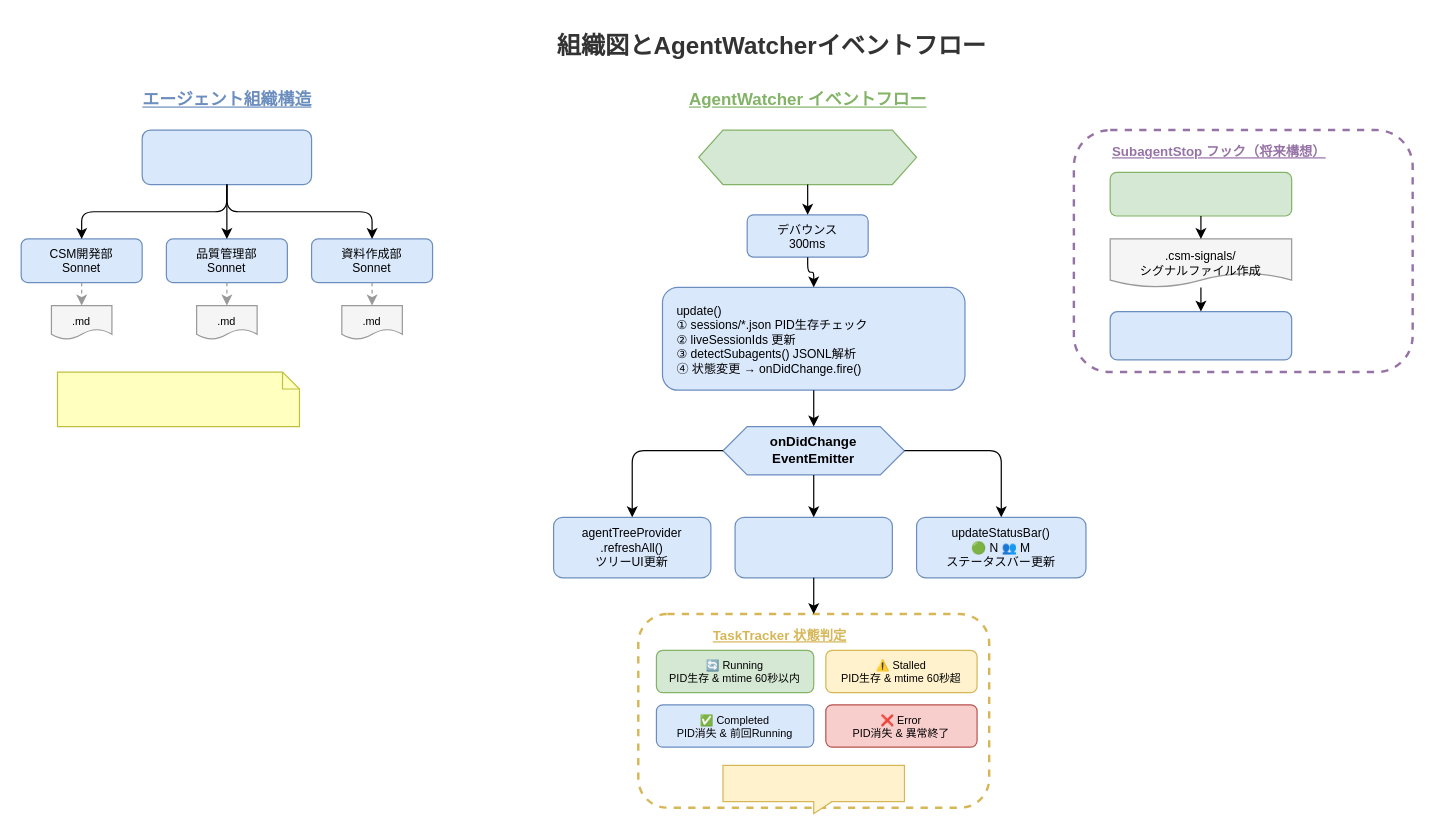
Some shapes in this 1435 by 835 pixel diagram are drawn without their labels. The shapes that lost their labels are listed below. From the top down, each one's box as (x1, y1, x2, y2) in pixels, then its label:
(141, 129, 312, 185): 取締役 Opus・固定
(698, 129, 917, 185): fs.watch ~/.claude/sessions/
(1109, 171, 1292, 216): Claude Code Hooks: SubagentStop
(1109, 310, 1292, 360): CSM検知 → タスク状態更新 → 通知
(56, 371, 299, 427): parentAgent で親子関係定義 → 組織図Webviewで階層表示
(734, 516, 892, 578): taskTracker .evaluate() タスク状態判定
(722, 764, 904, 814): VS Code 通知 （60秒間隔制限）
